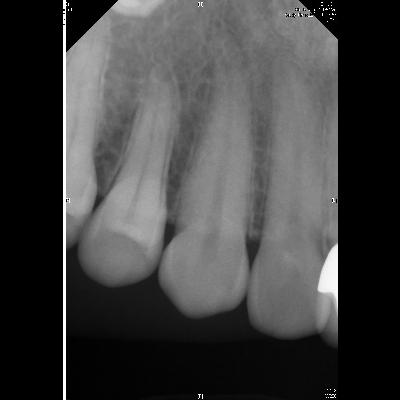tooth: (155, 25, 254, 319), (244, 51, 330, 340), (76, 58, 180, 290)
